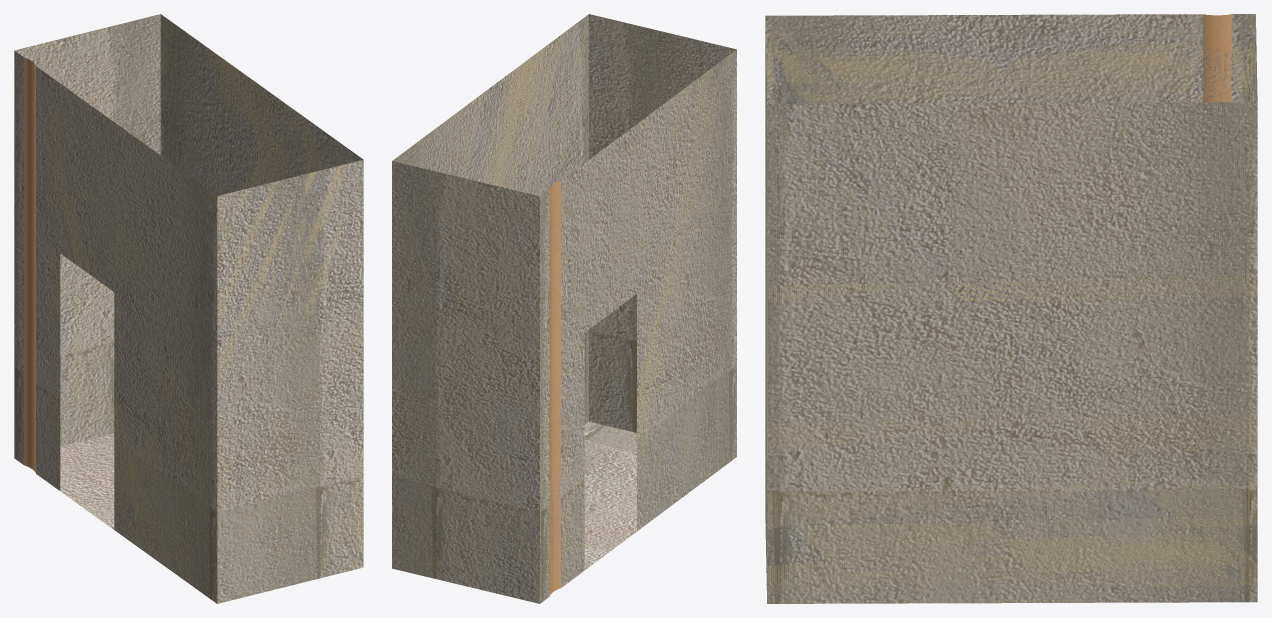
File: COM012.obj
3 views of the same model, side by side, from view 1: azimuth 30°, elevation 25°; view 2: azimuth 150°, elevation 25°; view 3: azimuth 270°, elevation 25° (orthographic). The views are drawn at different scales.
Visible parts, largest first — view 1: Mesh1 COM012 Model; view 2: Mesh1 COM012 Model; view 3: Mesh1 COM012 Model.
Boxes of the visible parts, x1=… form: Mesh1 COM012 Model: x1=14, y1=14, x2=363, y2=603; Mesh1 COM012 Model: x1=392, y1=14, x2=736, y2=603; Mesh1 COM012 Model: x1=765, y1=14, x2=1257, y2=603.
Size of the model in its own units: 1.39 by 3.6 by 3.21.
Materials: 4 (2 with a texture image).
